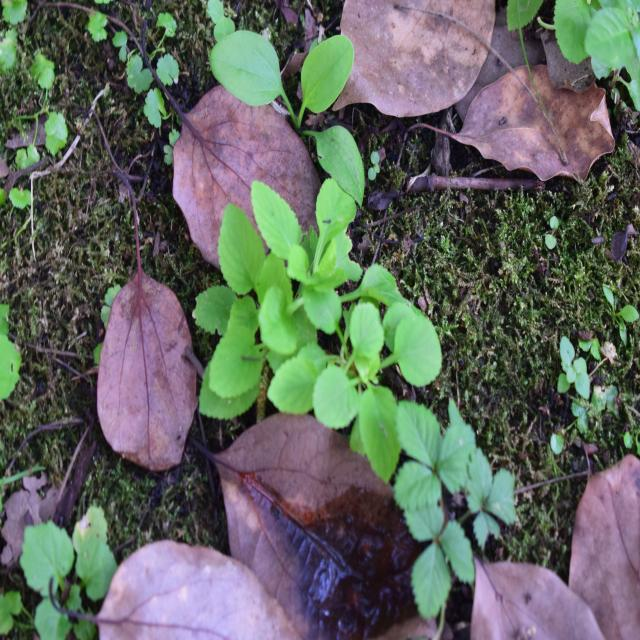Viola: (214, 202, 432, 448)
